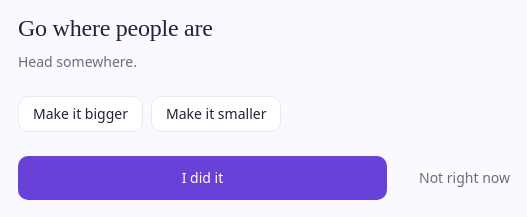
Test case: TinyActionFlow › Make it smaller (above the floor) logs 'reduced' and moves down without ending the flow
Click the button "Make it smaller" at (216,114), box [151,96,281,132]
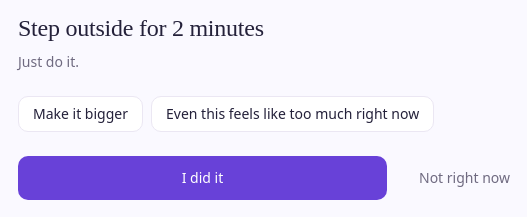
Now the heading "Step outside for 2 minutes" is shown, box [18,15,264,41]
